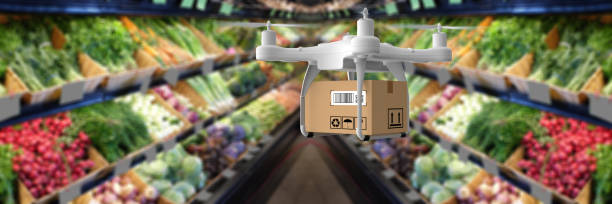Drone: (242, 6, 478, 83)
